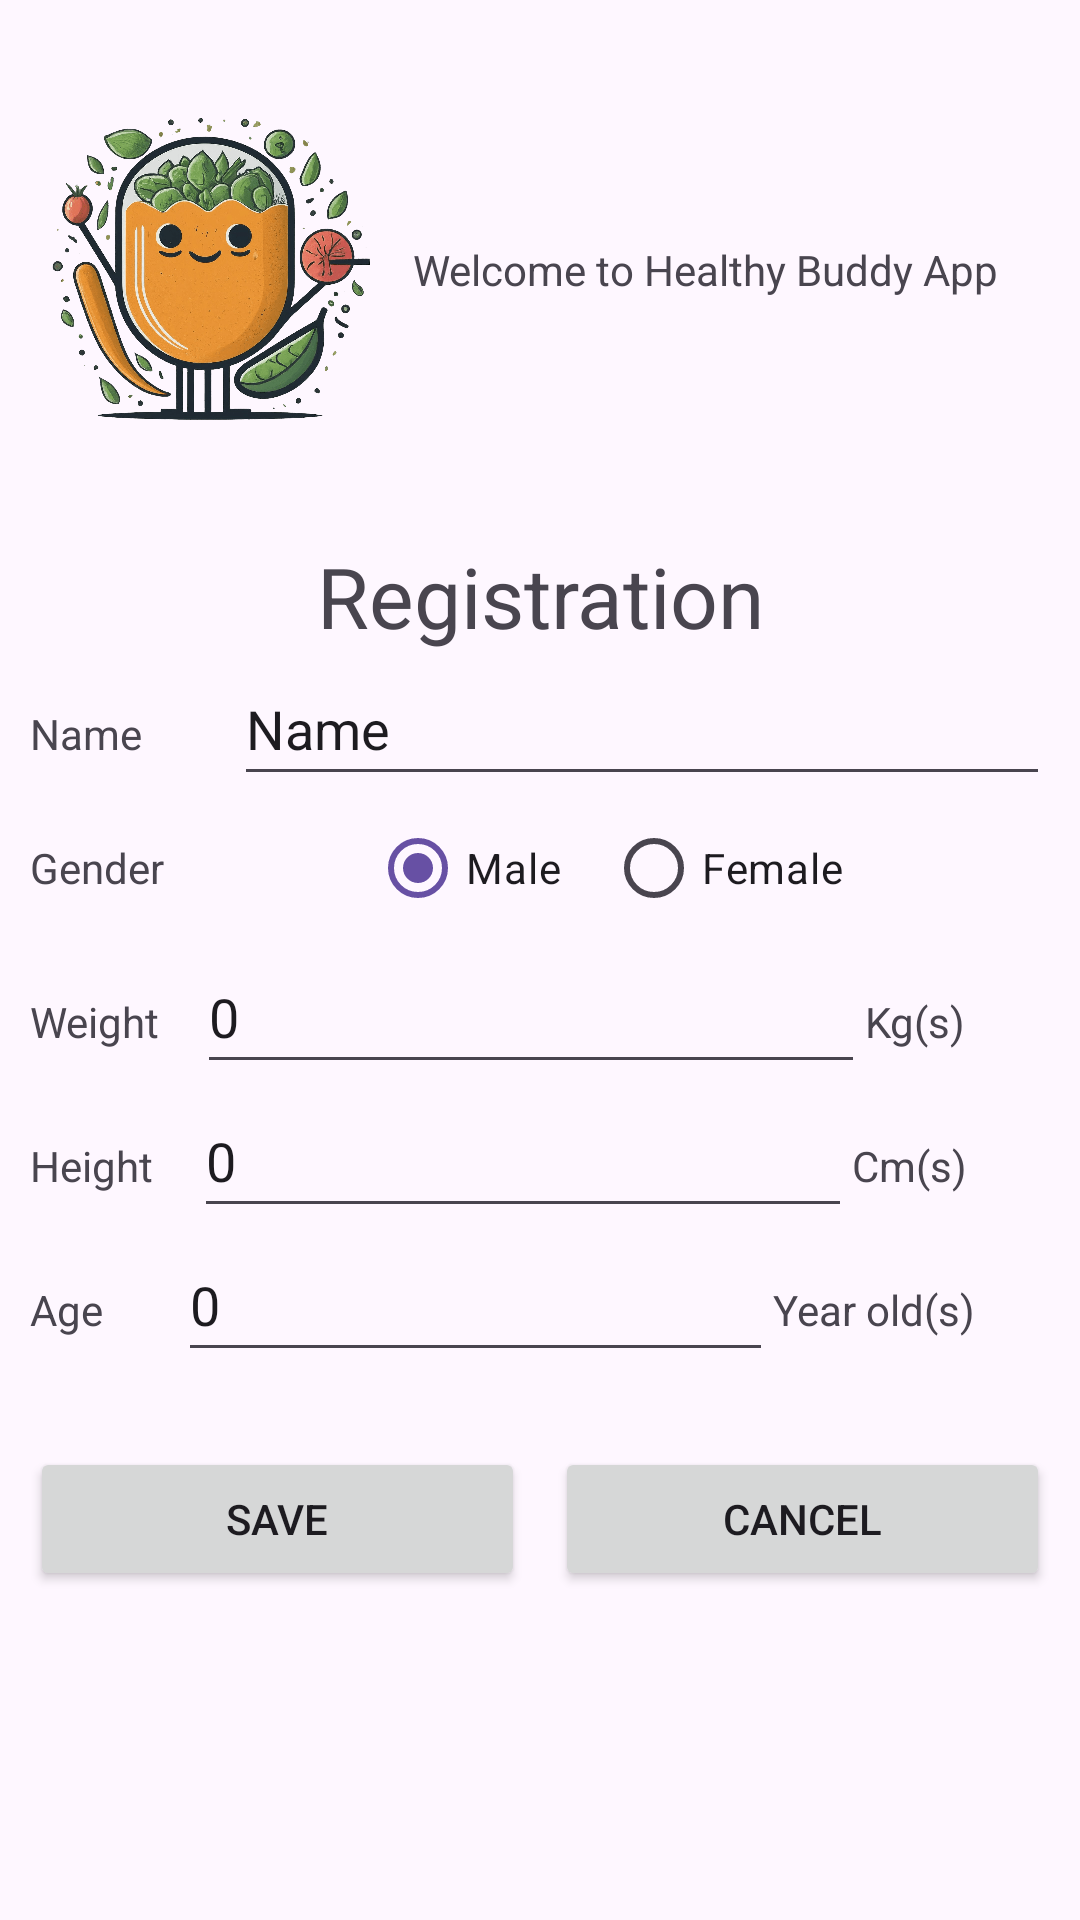

Named icons in this screenshot (1080x1920) and their bounding boxes, (x1, y1, x2, y2):
mascot: (52, 118, 370, 420)
